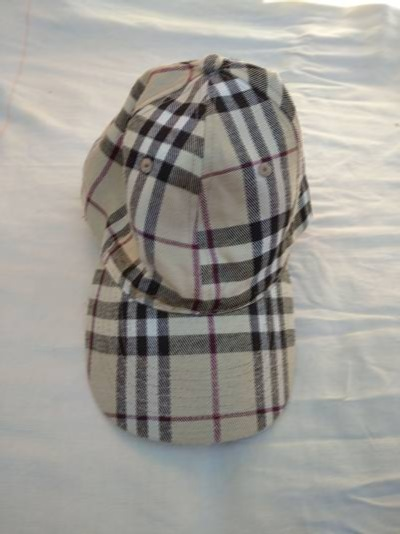Hat: (36, 55, 329, 458)
